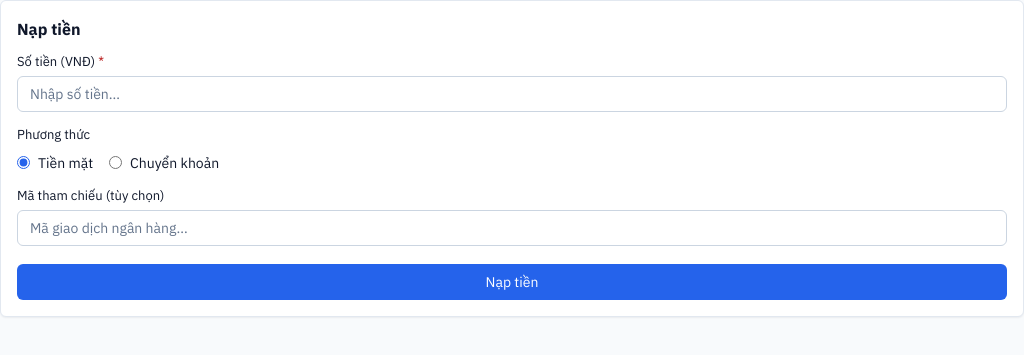
Scenario: TopupForm — amount validation › rejects amount of 0
This screenshot has width=1024, height=355.
Type "0" into the number field at (512, 94), box [17,76,1007,112]
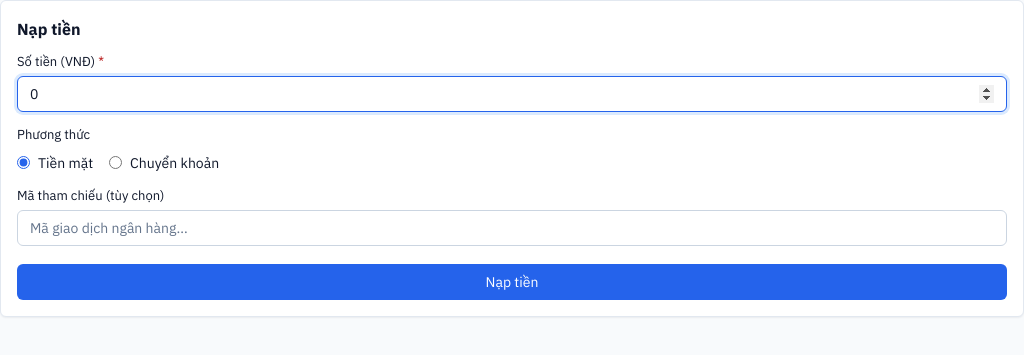
Click the button "Nạp tiền" at (512, 282), box [17,264,1007,300]
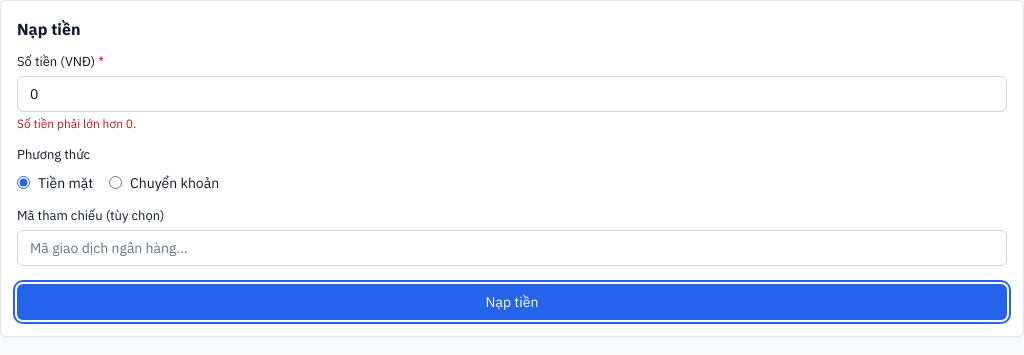
Expected: the text "Số tiền phải lớn hơn 0." is shown, [17,116,136,131]
